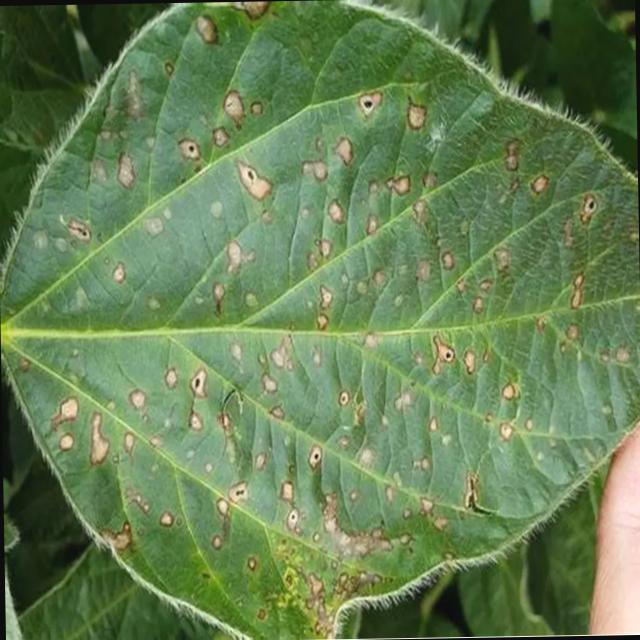leaf_spot: (0, 0, 640, 636)
